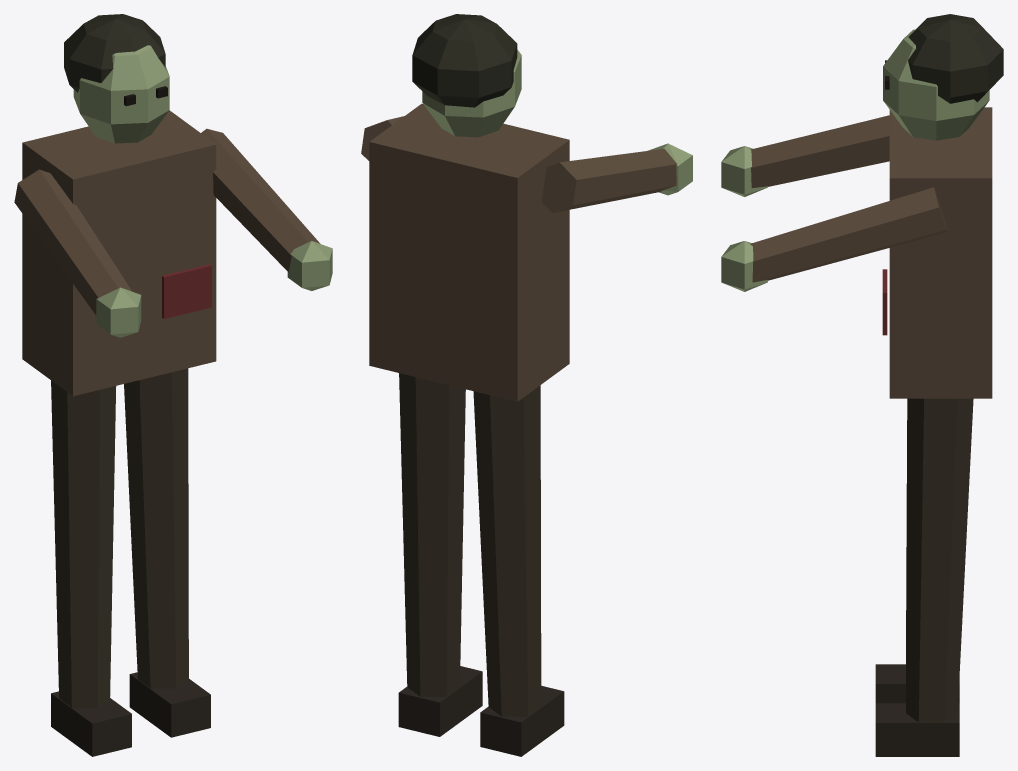
File: zombie.glb
3 views of the same model, side by side, from view 1: azimuth 30°, elevation 25°; view 2: azimuth 150°, elevation 25°; view 3: azimuth 270°, elevation 25° (orthographic). The views are drawn at different scales.
Bounding box in the file's own units: 0.5748 × 1.67 × 0.6039.
1 material, 1 textured.
